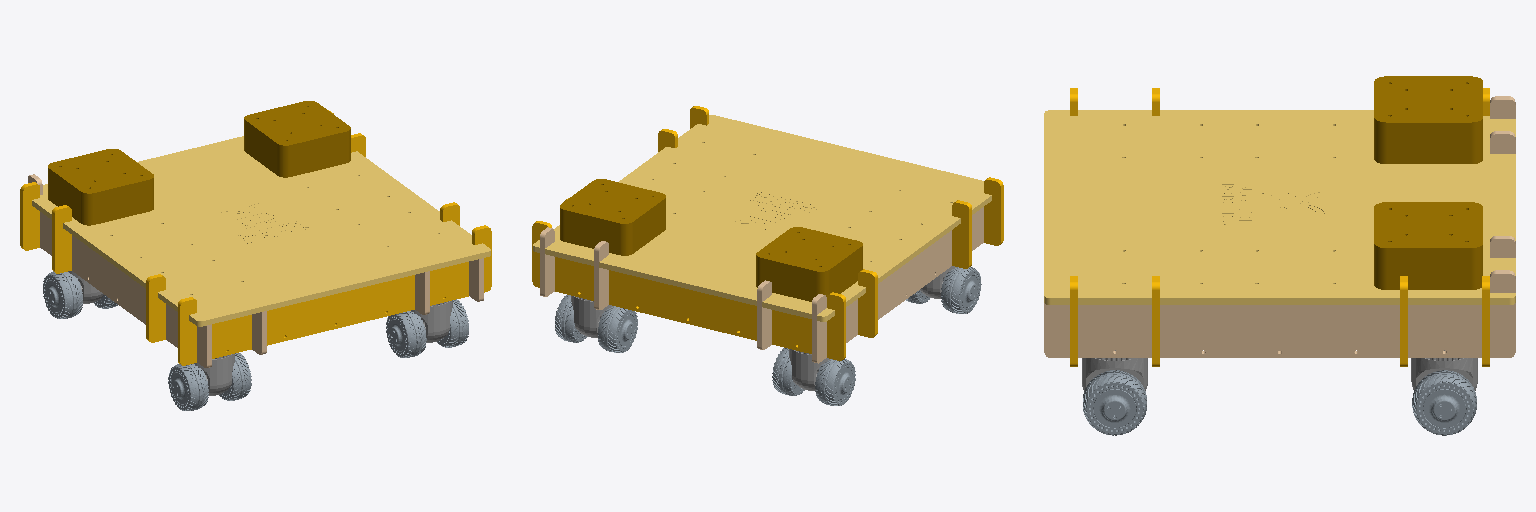
--- What the picture shows (computed from the rendered views, not written in the file) ---
3 views of the same robot in one strip: view 1: azimuth 30°, elevation 25°; view 2: azimuth 150°, elevation 25°; view 3: azimuth 270°, elevation 25° (orthographic).
Robot: robot_description — 16 links, 15 joints (12 revolute, 3 fixed); root link baseplate; default pose: all joints at 0.
Links seen in each view (by area): view 1: baseplate, ddsm115_4, ddsm115_2, ddsm115_7, drivemount_4, drivemount_2, ddsm115_3, ddsm115_8; view 2: baseplate, ddsm115_2, ddsm115_4, ddsm115_6, drivemount_3, drivemount, ddsm115, ddsm115_5; view 3: baseplate, ddsm115_5, ddsm115_8, drivemount_3, drivemount_4.
Boxes of the visible links, <box> form: baseplate: <box>20,101,491,367</box>; ddsm115_4: <box>168,364,208,410</box>; ddsm115_2: <box>43,271,82,318</box>; ddsm115_7: <box>386,311,426,357</box>; drivemount_4: <box>411,300,452,342</box>; drivemount_2: <box>194,354,234,395</box>; ddsm115_3: <box>219,353,251,400</box>; ddsm115_8: <box>437,299,468,347</box>; baseplate: <box>532,106,1003,363</box>; ddsm115_2: <box>815,359,855,405</box>; ddsm115_4: <box>941,267,981,313</box>; ddsm115_6: <box>598,306,637,352</box>; drivemount_3: <box>571,296,611,337</box>; drivemount: <box>789,349,829,390</box>; ddsm115: <box>772,348,804,395</box>; ddsm115_5: <box>555,295,586,342</box>; baseplate: <box>1044,76,1515,366</box>; ddsm115_5: <box>1412,370,1476,435</box>; ddsm115_8: <box>1083,370,1146,435</box>; drivemount_3: <box>1411,350,1477,390</box>; drivemount_4: <box>1082,350,1147,390</box>.
Size in the robot's own frame: 0.7333 by 0.7333 by 0.3204 metres.
Meshes: 7 distinct files referenced, 27 mesh visuals loaded (7 binary STL).

URDF robot description (robot_description):
<?xml version="1.0" ?>
<!-- Generated using onshape-to-robot -->
<!-- Onshape https://cad.onshape.com/documents/72c389bd5de915c2fe8aa9fd/w/fd737701d5bacab5bf1c8668/e/a981894d1764dab0bd28ba7a -->
<robot name="robot_description">
  <!-- Link baseplate -->
  <link name="baseplate">
    <inertial>
      <origin xyz="-0.000780382 0.040532 -0.0258869" rpy="0 0 0"/>
      <mass value="14.9958"/>
      <inertia ixx="0.831876" ixy="2.57157e-06" ixz="1.79282e-06" iyy="0.845009" iyz="-0.0414975" izz="1.62041"/>
    </inertial>
    <!-- Part baseplate -->
    <visual>
      <origin xyz="-0.000787974 -0.0144056 -0.012" rpy="0 -0 0"/>
      <geometry>
        <mesh filename="package://robot_description/assets/baseplate.stl"/>
      </geometry>
      <material name="baseplate_material">
        <color rgba="0.960784 0.835294 0.470588 1"/>
      </material>
    </visual>
    <collision>
      <origin xyz="-0.000787974 -0.0144056 -0.012" rpy="0 -0 0"/>
      <geometry>
        <mesh filename="package://robot_description/assets/baseplate.stl"/>
      </geometry>
    </collision>
    <!-- Part spanelhor -->
    <visual>
      <origin xyz="-0.199163 -0.00440559 -0.06195" rpy="0 -0 0"/>
      <geometry>
        <mesh filename="package://robot_description/assets/spanelhor.stl"/>
      </geometry>
      <material name="spanelhor_material">
        <color rgba="0.921569 0.8 0.654902 1"/>
      </material>
    </visual>
    <collision>
      <origin xyz="-0.199163 -0.00440559 -0.06195" rpy="0 -0 0"/>
      <geometry>
        <mesh filename="package://robot_description/assets/spanelhor.stl"/>
      </geometry>
    </collision>
    <!-- Part armsupportblock -->
    <visual>
      <origin xyz="-0.232413 0.227219 5.20417e-18" rpy="0 -0 -1.5708"/>
      <geometry>
        <mesh filename="package://robot_description/assets/armsupportblock.stl"/>
      </geometry>
      <material name="armsupportblock_material">
        <color rgba="0.65098 0.486275 0.0196078 1"/>
      </material>
    </visual>
    <collision>
      <origin xyz="-0.232413 0.227219 5.20417e-18" rpy="0 -0 -1.5708"/>
      <geometry>
        <mesh filename="package://robot_description/assets/armsupportblock.stl"/>
      </geometry>
    </collision>
    <!-- Part spanelver -->
    <visual>
      <origin xyz="-0.000737974 -0.319031 -0.062" rpy="0 -0 -1.5708"/>
      <geometry>
        <mesh filename="package://robot_description/assets/spanelver.stl"/>
      </geometry>
      <material name="spanelver_material">
        <color rgba="1 0.756863 0.054902 1"/>
      </material>
    </visual>
    <collision>
      <origin xyz="-0.000737974 -0.319031 -0.062" rpy="0 -0 -1.5708"/>
      <geometry>
        <mesh filename="package://robot_description/assets/spanelver.stl"/>
      </geometry>
    </collision>
    <!-- Part steeringdrivesupport -->
    <visual>
      <origin xyz="0.255712 0.251849 -0.088" rpy="1.32349e-23 5.29396e-23 -1.5708"/>
      <geometry>
        <mesh filename="package://robot_description/assets/steeringdrivesupport.stl"/>
      </geometry>
      <material name="steeringdrivesupport_material">
        <color rgba="0.972549 0.529412 0.00392157 1"/>
      </material>
    </visual>
    <collision>
      <origin xyz="0.255712 0.251849 -0.088" rpy="1.32349e-23 5.29396e-23 -1.5708"/>
      <geometry>
        <mesh filename="package://robot_description/assets/steeringdrivesupport.stl"/>
      </geometry>
    </collision>
    <!-- Part spanelhor_2 -->
    <visual>
      <origin xyz="0.185587 -0.00440559 -0.06195" rpy="0 -0 0"/>
      <geometry>
        <mesh filename="package://robot_description/assets/spanelhor.stl"/>
      </geometry>
      <material name="spanelhor_2_material">
        <color rgba="0.921569 0.8 0.654902 1"/>
      </material>
    </visual>
    <collision>
      <origin xyz="0.185587 -0.00440559 -0.06195" rpy="0 -0 0"/>
      <geometry>
        <mesh filename="package://robot_description/assets/spanelhor.stl"/>
      </geometry>
    </collision>
    <!-- Part spanelver_2 -->
    <visual>
      <origin xyz="-0.000737974 0.194219 -0.062" rpy="0 -0 -1.5708"/>
      <geometry>
        <mesh filename="package://robot_description/assets/spanelver.stl"/>
      </geometry>
      <material name="spanelver_2_material">
        <color rgba="1 0.756863 0.054902 1"/>
      </material>
    </visual>
    <collision>
      <origin xyz="-0.000737974 0.194219 -0.062" rpy="0 -0 -1.5708"/>
      <geometry>
        <mesh filename="package://robot_description/assets/spanelver.stl"/>
      </geometry>
    </collision>
    <!-- Part armsupportblock_2 -->
    <visual>
      <origin xyz="0.230837 0.227219 5.20417e-18" rpy="0 -0 -1.5708"/>
      <geometry>
        <mesh filename="package://robot_description/assets/armsupportblock.stl"/>
      </geometry>
      <material name="armsupportblock_2_material">
        <color rgba="0.65098 0.486275 0.0196078 1"/>
      </material>
    </visual>
    <collision>
      <origin xyz="0.230837 0.227219 5.20417e-18" rpy="0 -0 -1.5708"/>
      <geometry>
        <mesh filename="package://robot_description/assets/armsupportblock.stl"/>
      </geometry>
    </collision>
    <!-- Part spanelver_3 -->
    <visual>
      <origin xyz="-0.000737974 0.322219 -0.062" rpy="0 -0 -1.5708"/>
      <geometry>
        <mesh filename="package://robot_description/assets/spanelver.stl"/>
      </geometry>
      <material name="spanelver_3_material">
        <color rgba="1 0.756863 0.054902 1"/>
      </material>
    </visual>
    <collision>
      <origin xyz="-0.000737974 0.322219 -0.062" rpy="0 -0 -1.5708"/>
      <geometry>
        <mesh filename="package://robot_description/assets/spanelver.stl"/>
      </geometry>
    </collision>
    <!-- Part steeringdrivesupport_2 -->
    <visual>
      <origin xyz="-0.257288 -0.261406 -0.088" rpy="6.12323e-17 1.53458e-30 -4.996e-14"/>
      <geometry>
        <mesh filename="package://robot_description/assets/steeringdrivesupport.stl"/>
      </geometry>
      <material name="steeringdrivesupport_2_material">
        <color rgba="0.972549 0.529412 0.00392157 1"/>
      </material>
    </visual>
    <collision>
      <origin xyz="-0.257288 -0.261406 -0.088" rpy="6.12323e-17 1.53458e-30 -4.996e-14"/>
      <geometry>
        <mesh filename="package://robot_description/assets/steeringdrivesupport.stl"/>
      </geometry>
    </collision>
    <!-- Part spanelver_4 -->
    <visual>
      <origin xyz="-0.000737974 -0.191031 -0.062" rpy="-2.46519e-31 -7.64964e-32 -1.5708"/>
      <geometry>
        <mesh filename="package://robot_description/assets/spanelver.stl"/>
      </geometry>
      <material name="spanelver_4_material">
        <color rgba="1 0.756863 0.054902 1"/>
      </material>
    </visual>
    <collision>
      <origin xyz="-0.000737974 -0.191031 -0.062" rpy="-2.46519e-31 -7.64964e-32 -1.5708"/>
      <geometry>
        <mesh filename="package://robot_description/assets/spanelver.stl"/>
      </geometry>
    </collision>
    <!-- Part steeringdrivesupport_3 -->
    <visual>
      <origin xyz="0.255712 -0.261401 -0.088" rpy="0 3.65492e-33 -1.5708"/>
      <geometry>
        <mesh filename="package://robot_description/assets/steeringdrivesupport.stl"/>
      </geometry>
      <material name="steeringdrivesupport_3_material">
        <color rgba="0.972549 0.529412 0.00392157 1"/>
      </material>
    </visual>
    <collision>
      <origin xyz="0.255712 -0.261401 -0.088" rpy="0 3.65492e-33 -1.5708"/>
      <geometry>
        <mesh filename="package://robot_description/assets/steeringdrivesupport.stl"/>
      </geometry>
    </collision>
    <!-- Part steeringdrivesupport_4 -->
    <visual>
      <origin xyz="-0.257288 0.251844 -0.088" rpy="6.12323e-17 -6.61241e-37 8.32888e-25"/>
      <geometry>
        <mesh filename="package://robot_description/assets/steeringdrivesupport.stl"/>
      </geometry>
      <material name="steeringdrivesupport_4_material">
        <color rgba="0.972549 0.529412 0.00392157 1"/>
      </material>
    </visual>
    <collision>
      <origin xyz="-0.257288 0.251844 -0.088" rpy="6.12323e-17 -6.61241e-37 8.32888e-25"/>
      <geometry>
        <mesh filename="package://robot_description/assets/steeringdrivesupport.stl"/>
      </geometry>
    </collision>
    <!-- Part spanelhor_3 -->
    <visual>
      <origin xyz="-0.327413 -0.00440559 -0.06195" rpy="0 -0 0"/>
      <geometry>
        <mesh filename="package://robot_description/assets/spanelhor.stl"/>
      </geometry>
      <material name="spanelhor_3_material">
        <color rgba="0.921569 0.8 0.654902 1"/>
      </material>
    </visual>
    <collision>
      <origin xyz="-0.327413 -0.00440559 -0.06195" rpy="0 -0 0"/>
      <geometry>
        <mesh filename="package://robot_description/assets/spanelhor.stl"/>
      </geometry>
    </collision>
    <!-- Part spanelhor_4 -->
    <visual>
      <origin xyz="0.313837 -0.00440559 -0.06195" rpy="0 -0 0"/>
      <geometry>
        <mesh filename="package://robot_description/assets/spanelhor.stl"/>
      </geometry>
      <material name="spanelhor_4_material">
        <color rgba="0.921569 0.8 0.654902 1"/>
      </material>
    </visual>
    <collision>
      <origin xyz="0.313837 -0.00440559 -0.06195" rpy="0 -0 0"/>
      <geometry>
        <mesh filename="package://robot_description/assets/spanelhor.stl"/>
      </geometry>
    </collision>
  </link>
  <!-- Frame base_link (dummy link + fixed joint) -->
  <link name="base_link">
    <origin xyz="0 0 0" rpy="0 -0 0"/>
    <inertial>
      <origin xyz="0 0 0" rpy="0 0 0"/>
      <mass value="1e-9"/>
      <inertia ixx="0" ixy="0" ixz="0" iyy="0" iyz="0" izz="0"/>
    </inertial>
  </link>
  <joint name="base_link_frame" type="fixed">
    <origin xyz="0 0 0" rpy="0 -0 1.5708"/>
    <parent link="baseplate"/>
    <child link="base_link"/>
    <axis xyz="0 0 0"/>
  </joint>
  <!-- Frame PiperRightArmMount (dummy link + fixed joint) -->
  <link name="PiperRightArmMount">
    <origin xyz="0 0 0" rpy="0 -0 0"/>
    <inertial>
      <origin xyz="0 0 0" rpy="0 0 0"/>
      <mass value="1e-9"/>
      <inertia ixx="0" ixy="0" ixz="0" iyy="0" iyz="0" izz="0"/>
    </inertial>
  </link>
  <joint name="PiperRightArmMount_frame" type="fixed">
    <origin xyz="0.230837 0.227219 0.072" rpy="0 -0 1.5708"/>
    <parent link="baseplate"/>
    <child link="PiperRightArmMount"/>
    <axis xyz="0 0 0"/>
  </joint>
  <!-- Frame PiperLeftArmMount (dummy link + fixed joint) -->
  <link name="PiperLeftArmMount">
    <origin xyz="0 0 0" rpy="0 -0 0"/>
    <inertial>
      <origin xyz="0 0 0" rpy="0 0 0"/>
      <mass value="1e-9"/>
      <inertia ixx="0" ixy="0" ixz="0" iyy="0" iyz="0" izz="0"/>
    </inertial>
  </link>
  <joint name="PiperLeftArmMount_frame" type="fixed">
    <origin xyz="-0.232413 0.227219 0.072" rpy="0 -0 1.5708"/>
    <parent link="baseplate"/>
    <child link="PiperLeftArmMount"/>
    <axis xyz="0 0 0"/>
  </joint>
  <!-- Link drivemount -->
  <link name="drivemount">
    <inertial>
      <origin xyz="7.9659e-08 2.36788e-08 -0.0599101" rpy="0 0 0"/>
      <mass value="0.75055"/>
      <inertia ixx="0.00149132" ixy="7.23125e-10" ixz="-7.53142e-11" iyy="0.00127707" iyz="7.07922e-10" izz="0.00089429"/>
    </inertial>
    <!-- Part drivemount -->
    <visual>
      <origin xyz="0 2.14292e-25 -0.001" rpy="6.12323e-17 6.16297e-32 -3.14159"/>
      <geometry>
        <mesh filename="package://robot_description/assets/drivemount.stl"/>
      </geometry>
      <material name="drivemount_material">
        <color rgba="0.647059 0.647059 0.647059 1"/>
      </material>
    </visual>
    <collision>
      <origin xyz="0 2.14292e-25 -0.001" rpy="6.12323e-17 6.16297e-32 -3.14159"/>
      <geometry>
        <mesh filename="package://robot_description/assets/drivemount.stl"/>
      </geometry>
    </collision>
  </link>
  <!-- Link ddsm115 -->
  <link name="ddsm115">
    <inertial>
      <origin xyz="-5.68903e-09 -1.84532e-06 -0.0370814" rpy="0 0 0"/>
      <mass value="0.828591"/>
      <inertia ixx="0.000603382" ixy="1.80287e-09" ixz="1.92633e-10" iyy="0.000603401" iyz="5.27591e-08" izz="0.000943594"/>
    </inertial>
    <!-- Part ddsm115 -->
    <visual>
      <origin xyz="0 1.10448e-17 -0.01" rpy="1.5708 2.28527e-33 0"/>
      <geometry>
        <mesh filename="package://robot_description/assets/ddsm115.stl"/>
      </geometry>
      <material name="ddsm115_material">
        <color rgba="0.623529 0.666667 0.701961 1"/>
      </material>
    </visual>
    <collision>
      <origin xyz="0 1.10448e-17 -0.01" rpy="1.5708 2.28527e-33 0"/>
      <geometry>
        <mesh filename="package://robot_description/assets/ddsm115.stl"/>
      </geometry>
    </collision>
  </link>
  <!-- Joint from drivemount to ddsm115 -->
  <joint name="FLDriveR" type="revolute">
    <origin xyz="0.014 3.33067e-16 -0.111" rpy="2.37905e-14 -1.5708 0"/>
    <parent link="drivemount"/>
    <child link="ddsm115"/>
    <axis xyz="0 0 1"/>
    <limit effort="1000" velocity="10" lower="-3.141592653589793" upper="3.141592653589793"/>
  </joint>
  <!-- Link ddsm115_2 -->
  <link name="ddsm115_2">
    <inertial>
      <origin xyz="-5.68903e-09 -1.84532e-06 -0.0370814" rpy="0 0 0"/>
      <mass value="0.828591"/>
      <inertia ixx="0.000603382" ixy="1.80287e-09" ixz="1.92633e-10" iyy="0.000603401" iyz="5.27591e-08" izz="0.000943594"/>
    </inertial>
    <!-- Part ddsm115_2 -->
    <visual>
      <origin xyz="0 -4.27655e-17 -0.01" rpy="1.5708 -2.28527e-33 0"/>
      <geometry>
        <mesh filename="package://robot_description/assets/ddsm115.stl"/>
      </geometry>
      <material name="ddsm115_2_material">
        <color rgba="0.623529 0.666667 0.701961 1"/>
      </material>
    </visual>
    <collision>
      <origin xyz="0 -4.27655e-17 -0.01" rpy="1.5708 -2.28527e-33 0"/>
      <geometry>
        <mesh filename="package://robot_description/assets/ddsm115.stl"/>
      </geometry>
    </collision>
  </link>
  <!-- Joint from drivemount to ddsm115_2 -->
  <joint name="FLDriveL" type="revolute">
    <origin xyz="-0.014 -3.33067e-16 -0.111" rpy="-3.14159 -1.5708 0"/>
    <parent link="drivemount"/>
    <child link="ddsm115_2"/>
    <axis xyz="0 0 1"/>
    <limit effort="1000" velocity="10" lower="-3.141592653589793" upper="3.141592653589793"/>
  </joint>
  <!-- Joint from baseplate to drivemount -->
  <joint name="FLSteer" type="revolute">
    <origin xyz="-0.257288 0.251844 -0.087" rpy="-6.16298e-32 -6.61241e-37 8.32888e-25"/>
    <parent link="baseplate"/>
    <child link="drivemount"/>
    <axis xyz="0 0 1"/>
    <limit effort="1000" velocity="10" lower="-3.14159" upper="3.14159"/>
  </joint>
  <!-- Link drivemount_2 -->
  <link name="drivemount_2">
    <inertial>
      <origin xyz="7.9659e-08 2.36788e-08 -0.0599101" rpy="0 0 0"/>
      <mass value="0.75055"/>
      <inertia ixx="0.00149132" ixy="7.23125e-10" ixz="-7.53142e-11" iyy="0.00127707" iyz="7.07922e-10" izz="0.00089429"/>
    </inertial>
    <!-- Part drivemount_2 -->
    <visual>
      <origin xyz="0 2.44706e-17 -0.001" rpy="6.12323e-17 -4.67445e-30 -3.14159"/>
      <geometry>
        <mesh filename="package://robot_description/assets/drivemount.stl"/>
      </geometry>
      <material name="drivemount_2_material">
        <color rgba="0.647059 0.647059 0.647059 1"/>
      </material>
    </visual>
    <collision>
      <origin xyz="0 2.44706e-17 -0.001" rpy="6.12323e-17 -4.67445e-30 -3.14159"/>
      <geometry>
        <mesh filename="package://robot_description/assets/drivemount.stl"/>
      </geometry>
    </collision>
  </link>
  <!-- Link ddsm115_3 -->
  <link name="ddsm115_3">
    <inertial>
      <origin xyz="5.68903e-09 1.84532e-06 -0.0370814" rpy="0 0 0"/>
      <mass value="0.828591"/>
      <inertia ixx="0.000603382" ixy="1.80287e-09" ixz="-1.92633e-10" iyy="0.000603401" iyz="-5.27591e-08" izz="0.000943594"/>
    </inertial>
    <!-- Part ddsm115_3 -->
    <visual>
      <origin xyz="-3.1455e-17 0 -0.01" rpy="1.5708 -0 3.14159"/>
      <geometry>
        <mesh filename="package://robot_description/assets/ddsm115.stl"/>
      </geometry>
      <material name="ddsm115_3_material">
        <color rgba="0.623529 0.666667 0.701961 1"/>
      </material>
    </visual>
    <collision>
      <origin xyz="-3.1455e-17 0 -0.01" rpy="1.5708 -0 3.14159"/>
      <geometry>
        <mesh filename="package://robot_description/assets/ddsm115.stl"/>
      </geometry>
    </collision>
  </link>
  <!-- Joint from drivemount_2 to ddsm115_3 -->
  <joint name="BLDriveR" type="revolute">
    <origin xyz="0.014 4.46355e-16 -0.111" rpy="1.5708 -6.12323e-17 -1.5708"/>
    <parent link="drivemount_2"/>
    <child link="ddsm115_3"/>
    <axis xyz="0 0 1"/>
    <limit effort="1000" velocity="10" lower="-3.141592653589793" upper="3.141592653589793"/>
  </joint>
  <!-- Link ddsm115_4 -->
  <link name="ddsm115_4">
    <inertial>
      <origin xyz="-5.68903e-09 -1.84532e-06 -0.0370814" rpy="0 0 0"/>
      <mass value="0.828591"/>
      <inertia ixx="0.000603382" ixy="1.80287e-09" ixz="1.92633e-10" iyy="0.000603401" iyz="5.27591e-08" izz="0.000943594"/>
    </inertial>
    <!-- Part ddsm115_4 -->
    <visual>
      <origin xyz="-1.13678e-17 0 -0.01" rpy="1.5708 -0 0"/>
      <geometry>
        <mesh filename="package://robot_description/assets/ddsm115.stl"/>
      </geometry>
      <material name="ddsm115_4_material">
        <color rgba="0.623529 0.666667 0.701961 1"/>
      </material>
    </visual>
    <collision>
      <origin xyz="-1.13678e-17 0 -0.01" rpy="1.5708 -0 0"/>
      <geometry>
        <mesh filename="package://robot_description/assets/ddsm115.stl"/>
      </geometry>
    </collision>
  </link>
  <!-- Joint from drivemount_2 to ddsm115_4 -->
  <joint name="BLDriveL" type="revolute">
    <origin xyz="-0.014 -4.52925e-16 -0.111" rpy="1.5708 6.12323e-17 1.5708"/>
    <parent link="drivemount_2"/>
    <child link="ddsm115_4"/>
    <axis xyz="0 0 1"/>
    <limit effort="1000" velocity="10" lower="-3.141592653589793" upper="3.141592653589793"/>
  </joint>
  <!-- Joint from baseplate to drivemount_2 -->
  <joint name="BLSteer" type="revolute">
    <origin xyz="-0.257288 -0.261406 -0.087" rpy="3.69779e-32 1.53458e-30 -4.996e-14"/>
    <parent link="baseplate"/>
    <child link="drivemount_2"/>
    <axis xyz="0 0 1"/>
    <limit effort="1000" velocity="10" lower="-3.14159" upper="3.14159"/>
  </joint>
  <!-- Link drivemount_3 -->
  <link name="drivemount_3">
    <inertial>
      <origin xyz="-2.36788e-08 7.9659e-08 -0.0599101" rpy="0 0 0"/>
      <mass value="0.75055"/>
      <inertia ixx="0.00127707" ixy="-7.23125e-10" ixz="-7.07922e-10" iyy="0.00149132" iyz="-7.53142e-11" izz="0.00089429"/>
    </inertial>
    <!-- Part drivemount_3 -->
    <visual>
      <origin xyz="-2.05005e-17 0 -0.001" rpy="6.12323e-17 -1.65167e-30 -1.5708"/>
      <geometry>
        <mesh filename="package://robot_description/assets/drivemount.stl"/>
      </geometry>
      <material name="drivemount_3_material">
        <color rgba="0.647059 0.647059 0.647059 1"/>
      </material>
    </visual>
    <collision>
      <origin xyz="-2.05005e-17 0 -0.001" rpy="6.12323e-17 -1.65167e-30 -1.5708"/>
      <geometry>
        <mesh filename="package://robot_description/assets/drivemount.stl"/>
      </geometry>
    </collision>
  </link>
  <!-- Link ddsm115_5 -->
  <link name="ddsm115_5">
    <inertial>
      <origin xyz="-5.68903e-09 -1.84532e-06 -0.0370814" rpy="0 0 0"/>
      <mass value="0.828591"/>
      <inertia ixx="0.000603382" ixy="1.80287e-09" ixz="1.92633e-10" iyy="0.000603401" iyz="5.27591e-08" izz="0.000943594"/>
    </inertial>
    <!-- Part ddsm115_5 -->
    <visual>
      <origin xyz="5.25192e-17 0 -0.01" rpy="1.5708 -0 0"/>
      <geometry>
        <mesh filename="package://robot_description/assets/ddsm115.stl"/>
      </geometry>
      <material name="ddsm115_5_material">
        <color rgba="0.623529 0.666667 0.701961 1"/>
      </material>
    </visual>
    <collision>
      <origin xyz="5.25192e-17 0 -0.01" rpy="1.5708 -0 0"/>
      <geometry>
        <mesh filename="package://robot_description/assets/ddsm115.stl"/>
      </geometry>
    </collision>
  </link>
  <!-- Joint from drivemount_3 to ddsm115_5 -->
  <joint name="FRDriveR" type="revolute">
    <origin xyz="-2.93823e-17 0.014 -0.111" rpy="-1.5708 6.67869e-17 -3.14159"/>
    <parent link="drivemount_3"/>
    <child link="ddsm115_5"/>
    <axis xyz="0 0 1"/>
    <limit effort="1000" velocity="10" lower="-3.141592653589793" upper="3.141592653589793"/>
  </joint>
  <!-- Link ddsm115_6 -->
  <link name="ddsm115_6">
    <inertial>
      <origin xyz="5.68903e-09 1.84532e-06 -0.0370814" rpy="0 0 0"/>
      <mass value="0.828591"/>
      <inertia ixx="0.000603382" ixy="1.80287e-09" ixz="-1.92633e-10" iyy="0.000603401" iyz="-5.27591e-08" izz="0.000943594"/>
    </inertial>
    <!-- Part ddsm115_6 -->
    <visual>
      <origin xyz="4.89305e-18 -2.77556e-17 -0.01" rpy="1.5708 3.02667e-16 3.14159"/>
      <geometry>
        <mesh filename="package://robot_description/assets/ddsm115.stl"/>
      </geometry>
      <material name="ddsm115_6_material">
        <color rgba="0.623529 0.666667 0.701961 1"/>
      </material>
    </visual>
    <collision>
      <origin xyz="4.89305e-18 -2.77556e-17 -0.01" rpy="1.5708 3.02667e-16 3.14159"/>
      <geometry>
        <mesh filename="package://robot_description/assets/ddsm115.stl"/>
      </geometry>
    </collision>
  </link>
  <!-- Joint from drivemount_3 to ddsm115_6 -->
  <joint name="FRDriveL" type="revolute">
    <origin xyz="-1.16187e-17 -0.014 -0.111" rpy="-1.5708 -6.12323e-17 2.77556e-17"/>
    <parent link="drivemount_3"/>
    <child link="ddsm115_6"/>
    <axis xyz="0 0 1"/>
    <limit effort="1000" velocity="10" lower="-3.141592653589793" upper="3.141592653589793"/>
  </joint>
  <!-- Joint from baseplate to drivemount_3 -->
  <joint name="FRSteer" type="revolute">
    <origin xyz="0.255712 0.251849 -0.087" rpy="-6.12323e-17 5.29396e-23 -1.5708"/>
    <parent link="baseplate"/>
    <child link="drivemount_3"/>
    <axis xyz="0 0 1"/>
    <limit effort="1000" velocity="10" lower="-3.14159" upper="3.14159"/>
  </joint>
  <!-- Link drivemount_4 -->
  <link name="drivemount_4">
    <inertial>
      <origin xyz="-2.36788e-08 7.9659e-08 -0.0599101" rpy="0 0 0"/>
      <mass value="0.75055"/>
      <inertia ixx="0.00127707" ixy="-7.23125e-10" ixz="-7.07922e-10" iyy="0.00149132" iyz="-7.53142e-11" izz="0.00089429"/>
    </inertial>
    <!-- Part drivemount_4 -->
    <visual>
      <origin xyz="5.97869e-17 5.55112e-17 -0.001" rpy="1.31791e-16 -5.02025e-17 -1.5708"/>
      <geometry>
        <mesh filename="package://robot_description/assets/drivemount.stl"/>
      </geometry>
      <material name="drivemount_4_material">
        <color rgba="0.647059 0.647059 0.647059 1"/>
      </material>
    </visual>
    <collision>
      <origin xyz="5.97869e-17 5.55112e-17 -0.001" rpy="1.31791e-16 -5.02025e-17 -1.5708"/>
      <geometry>
        <mesh filename="package://robot_description/assets/drivemount.stl"/>
      </geometry>
    </collision>
  </link>
  <!-- Link ddsm115_7 -->
  <link name="ddsm115_7">
    <inertial>
      <origin xyz="-1.84532e-06 5.68903e-09 -0.0370814" rpy="0 0 0"/>
      <mass value="0.828591"/>
      <inertia ixx="0.000603401" ixy="-1.80287e-09" ixz="5.27591e-08" iyy="0.000603382" iyz="-1.92633e-10" izz="0.000943594"/>
    </inertial>
    <!-- Part ddsm115_7 -->
    <visual>
      <origin xyz="-1.05026e-17 0 -0.01" rpy="1.5708 -7.33781e-17 -1.5708"/>
      <geometry>
        <mesh filename="package://robot_description/assets/ddsm115.stl"/>
      </geometry>
      <material name="ddsm115_7_material">
        <color rgba="0.623529 0.666667 0.701961 1"/>
      </material>
    </visual>
    <collision>
      <origin xyz="-1.05026e-17 0 -0.01" rpy="1.5708 -7.33781e-17 -1.5708"/>
      <geometry>
        <mesh filename="package://robot_description/assets/ddsm115.stl"/>
      </geometry>
    </collision>
  </link>
  <!-- Joint from drivemount_4 to ddsm115_7 -->
  <joint name="BRDriveL" type="revolute">
    <origin xyz="5.80105e-17 -0.014 -0.111" rpy="-1.5708 -1.31791e-16 2.77556e-17"/>
    <parent link="drivemount_4"/>
    <child link="ddsm115_7"/>
    <axis xyz="0 0 1"/>
    <limit effort="1000" velocity="10" lower="-3.141592653589793" upper="3.141592653589793"/>
  </joint>
  <!-- Link ddsm115_8 -->
  <link name="ddsm115_8">
    <inertial>
      <origin xyz="-1.84532e-06 5.68903e-09 -0.0370814" rpy="0 0 0"/>
      <mass value="0.828591"/>
      <inertia ixx="0.000603401" ixy="-1.80287e-09" ixz="5.27591e-08" iyy="0.000603382" iyz="-1.92633e-10" izz="0.000943594"/>
    </inertial>
    <!-- Part ddsm115_8 -->
    <visual>
      <origin xyz="-1.89403e-17 0 -0.01" rpy="1.5708 -7.02951e-19 -1.5708"/>
      <geometry>
        <mesh filename="package://robot_description/assets/ddsm115.stl"/>
      </geometry>
      <material name="ddsm115_8_material">
        <color rgba="0.623529 0.666667 0.701961 1"/>
      </material>
    </visual>
    <collision>
      <origin xyz="-1.89403e-17 0 -0.01" rpy="1.5708 -7.02951e-19 -1.5708"/>
      <geometry>
        <mesh filename="package://robot_description/assets/ddsm115.stl"/>
      </geometry>
    </collision>
  </link>
  <!-- Joint from drivemount_4 to ddsm115_8 -->
  <joint name="BRDriveR" type="revolute">
    <origin xyz="6.15632e-17 0.014 -0.111" rpy="1.5708 -1.31791e-16 2.77556e-17"/>
    <parent link="drivemount_4"/>
    <child link="ddsm115_8"/>
    <axis xyz="0 0 1"/>
    <limit effort="1000" velocity="10" lower="-3.141592653589793" upper="3.141592653589793"/>
  </joint>
  <!-- Joint from baseplate to drivemount_4 -->
  <joint name="BRSteer" type="revolute">
    <origin xyz="0.255712 -0.261401 -0.087" rpy="-6.12323e-17 3.65492e-33 -1.5708"/>
    <parent link="baseplate"/>
    <child link="drivemount_4"/>
    <axis xyz="0 0 1"/>
    <limit effort="1000" velocity="10" lower="-3.14159" upper="3.14159"/>
  </joint>
</robot>
